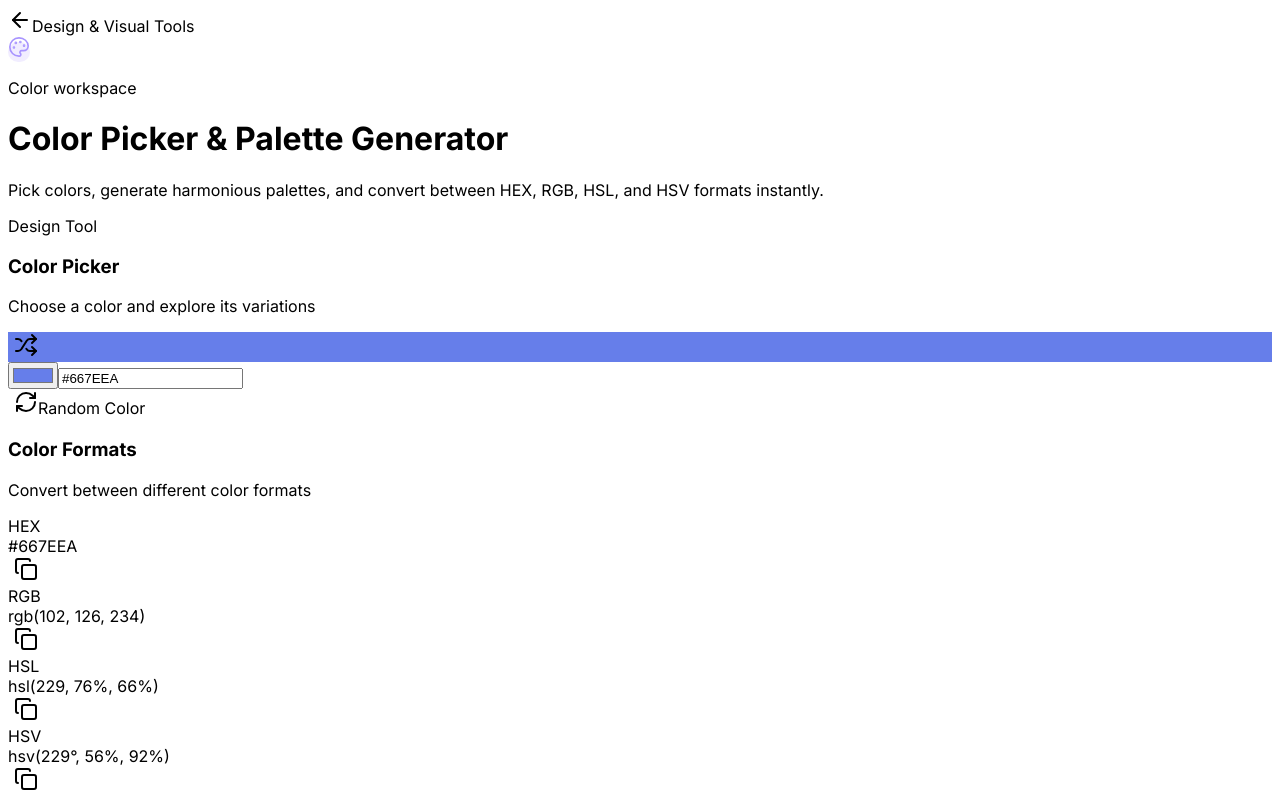
Color Picker - Color Conversion Tests › should update conversions when color changes
Change to red
Type "#FF0000" into the field showing "#667EEA".
click(150, 379); type("#FF0000")  # box x1=58 y1=368 x2=243 y2=389
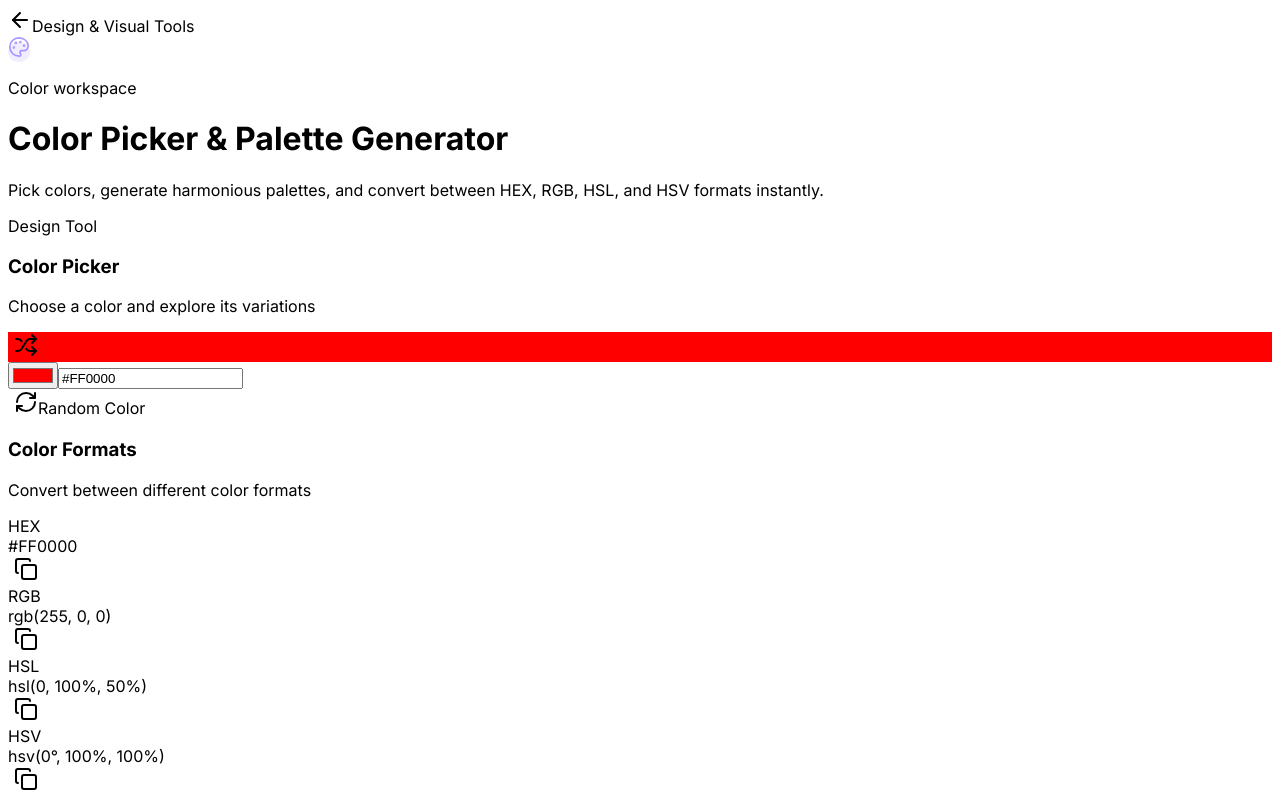
Expected: the text "rgb(255, 0, 0)" is shown, x1=8 y1=606 x2=111 y2=626
